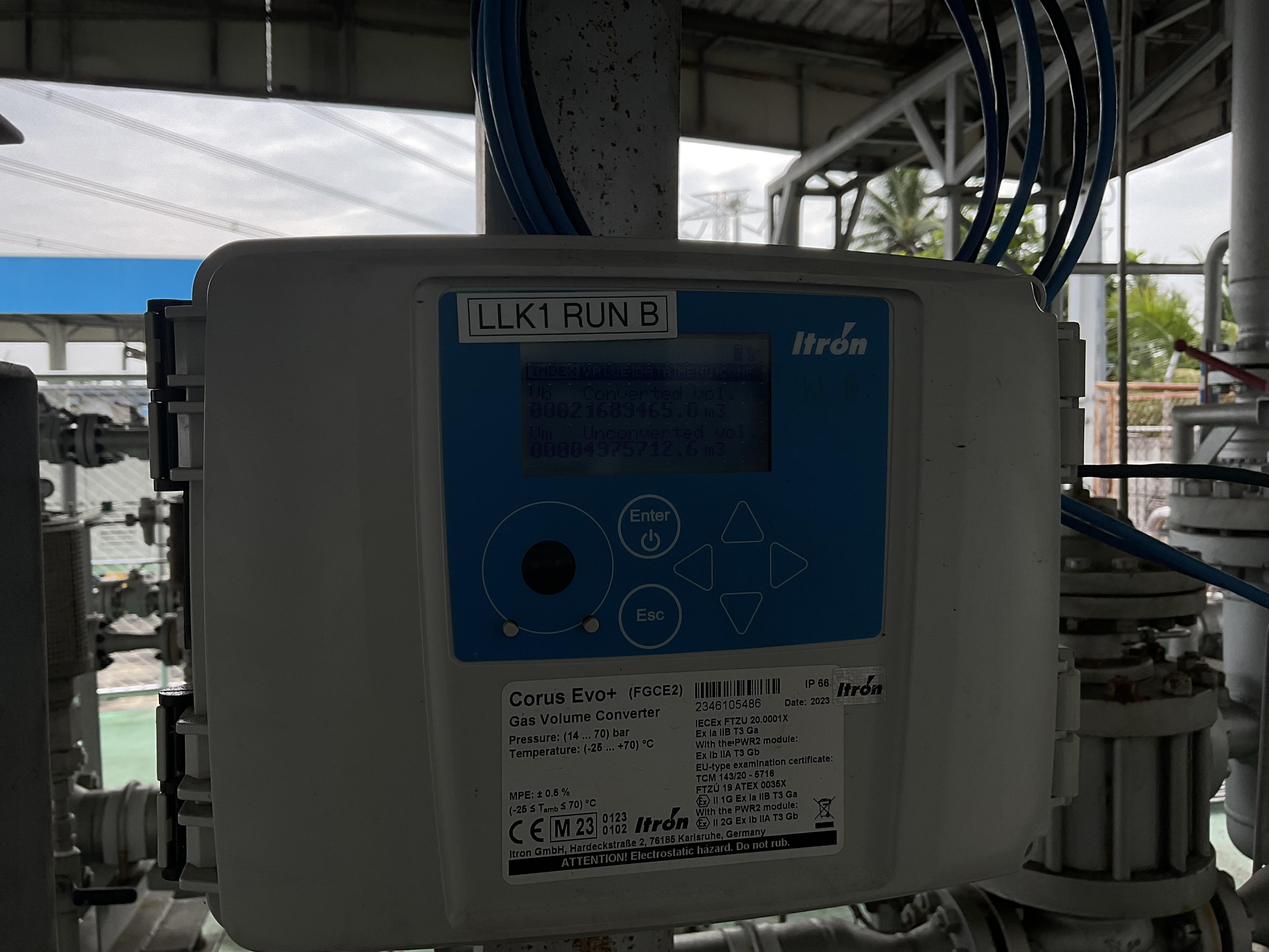digital_screen: (521, 331, 772, 478)
